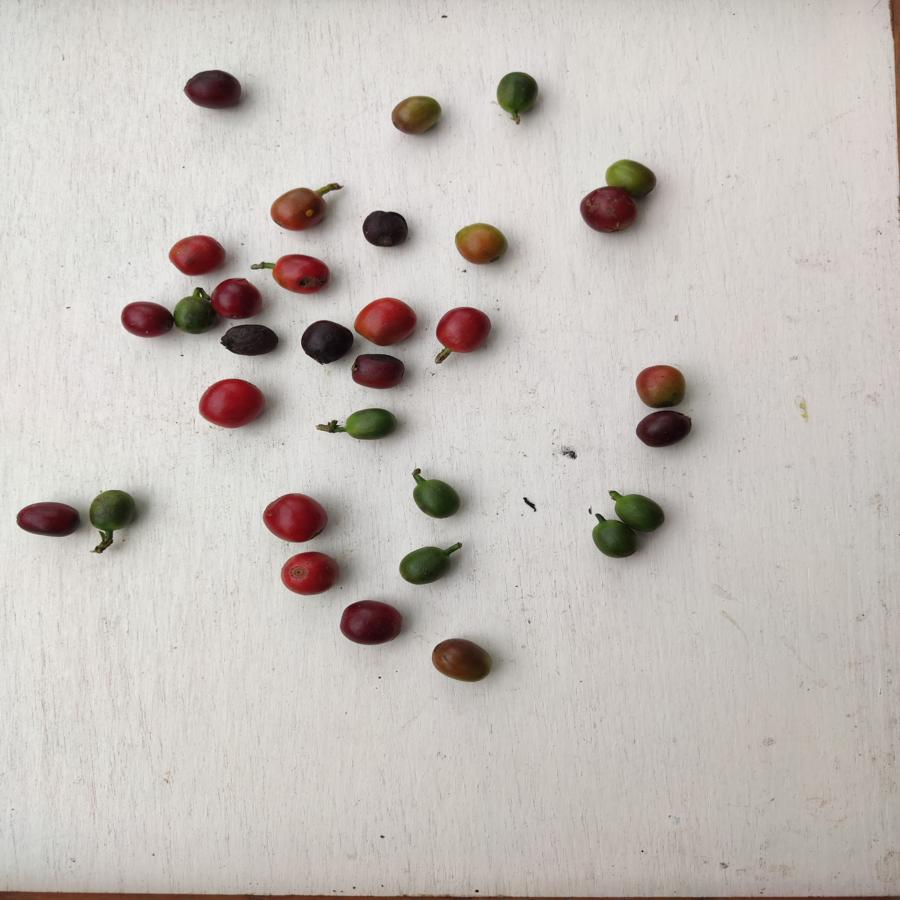Inmaduro: (587, 516, 640, 563), (342, 405, 401, 446), (411, 474, 465, 518), (398, 543, 452, 586), (611, 490, 668, 530), (88, 489, 137, 533), (498, 68, 539, 115), (173, 295, 214, 332)
Maduro: (259, 492, 332, 542), (198, 378, 265, 429), (352, 297, 420, 345), (165, 233, 228, 278), (280, 550, 340, 596), (267, 254, 331, 296), (437, 305, 490, 353)
Pinton: (428, 637, 496, 686), (269, 187, 326, 230), (635, 361, 686, 409), (456, 223, 510, 266), (391, 95, 443, 134), (599, 156, 658, 190)
Sobremaduro: (337, 600, 405, 649), (575, 186, 640, 236), (181, 70, 247, 113), (350, 350, 410, 393), (17, 502, 81, 541), (634, 409, 694, 450), (300, 319, 351, 365), (211, 275, 264, 319), (218, 323, 281, 359), (116, 300, 175, 338), (358, 211, 413, 249)
